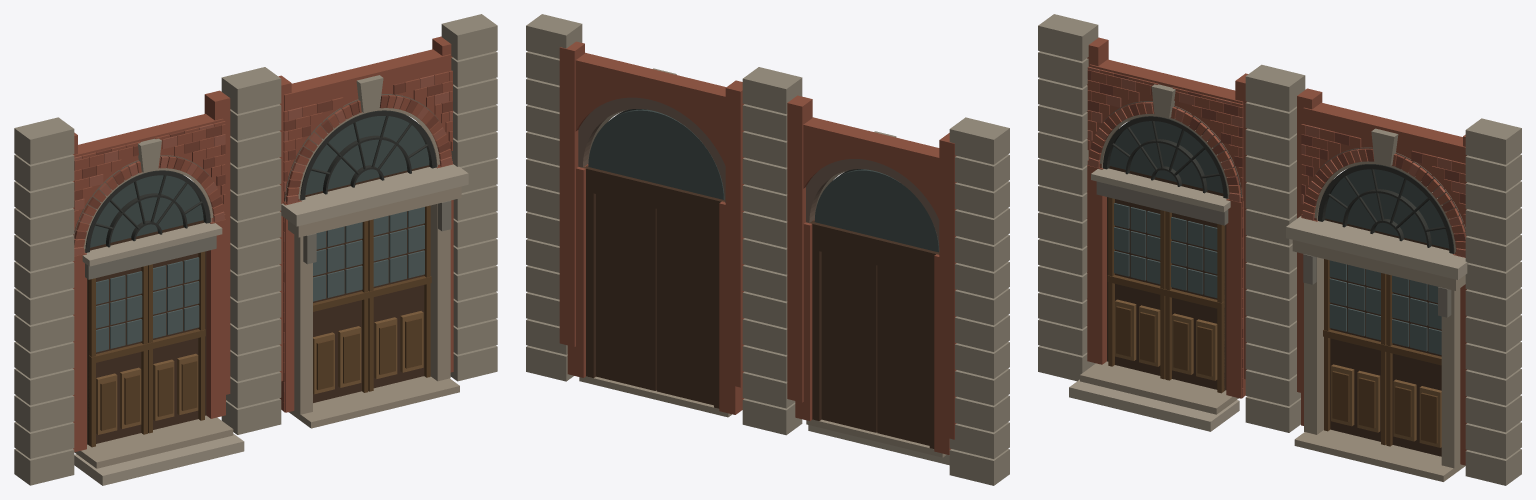
File: yangpu-yangshupu-2086-two-fanlight-entrances-web.glb
3 views of the same model, side by side, from view 1: azimuth 30°, elevation 25°; view 2: azimuth 150°, elevation 25°; view 3: azimuth 330°, elevation 25° (orthographic).
Parts seen in each view (by area): view 1: 日商上海纺织株式会社旧址街面双券门与扇形亮窗; view 2: 日商上海纺织株式会社旧址街面双券门与扇形亮窗; view 3: 日商上海纺织株式会社旧址街面双券门与扇形亮窗.
Boxes of the visible parts, bbox=[...] form: 日商上海纺织株式会社旧址街面双券门与扇形亮窗: bbox=[14, 14, 497, 485]; 日商上海纺织株式会社旧址街面双券门与扇形亮窗: bbox=[526, 14, 1009, 485]; 日商上海纺织株式会社旧址街面双券门与扇形亮窗: bbox=[1038, 14, 1521, 485].
Size of the model in its own units: 7.08 by 5.01 by 0.975.
